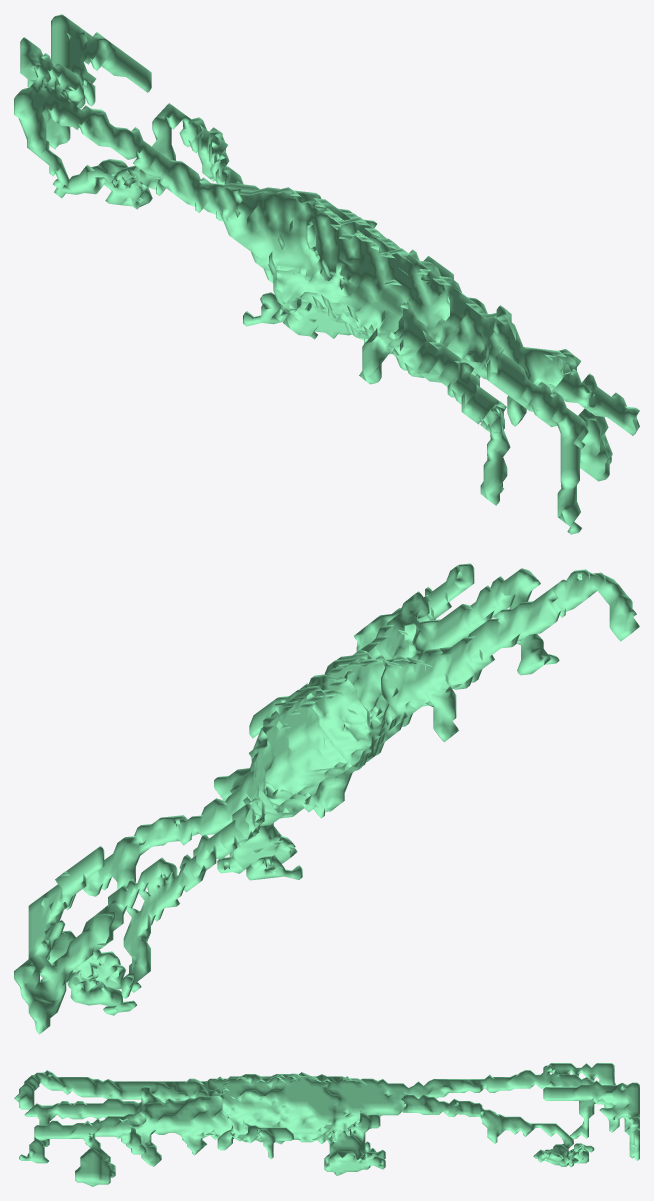
The model's file is osteocyte_7.glb.
The picture shows the model from 3 angles, top to bottom: view 1: azimuth 30°, elevation 25°; view 2: azimuth 150°, elevation 25°; view 3: azimuth 270°, elevation 25°; orthographic projection. The views are drawn at different scales.
Parts seen in each view (by area): view 1: osteocyte_7; view 2: osteocyte_7; view 3: osteocyte_7.
Part boxes in pixels (x1,y1,x2,y2): osteocyte_7: (14, 14, 639, 534); osteocyte_7: (14, 563, 639, 1034); osteocyte_7: (14, 1063, 639, 1186).
Size of the model in its own units: 12.52 by 8.67 by 59.22.
